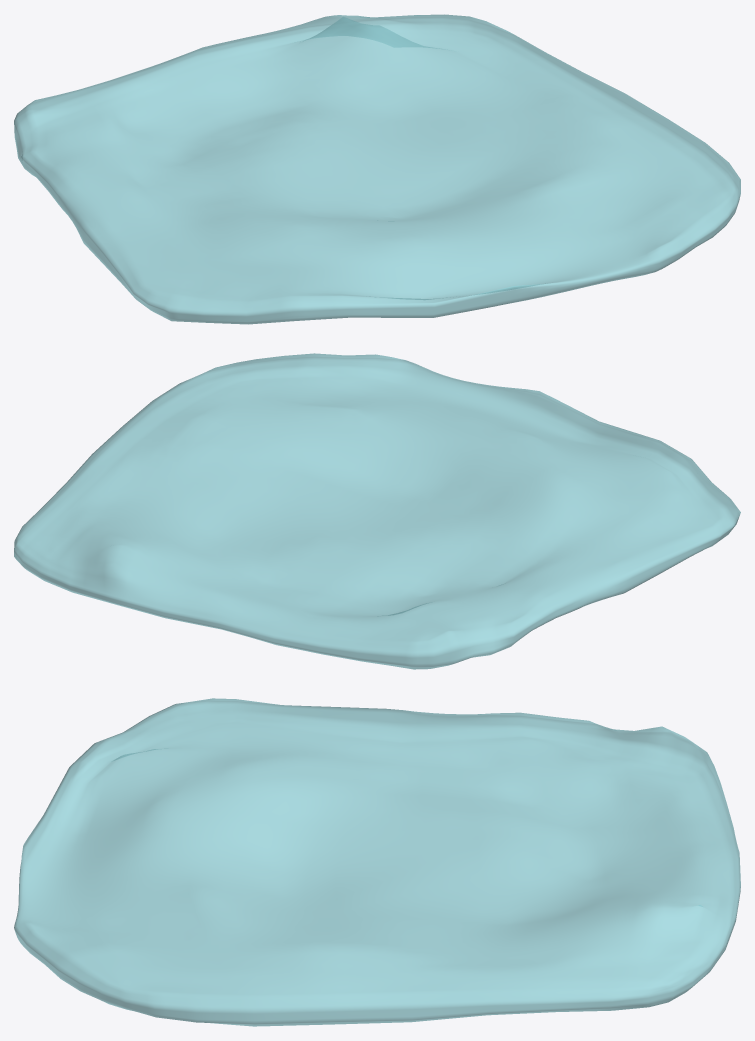
Rendered from lava4.fbx.
3 renders of one model, top to bottom at view 1: azimuth 30°, elevation 25°; view 2: azimuth 150°, elevation 25°; view 3: azimuth 270°, elevation 25°, orthographic. The views are drawn at different scales.
Visible parts, largest first — view 1: lava4; view 2: lava4; view 3: lava4.
Boxes of the visible parts, x1=… form: lava4: x1=14, y1=14, x2=740, y2=324; lava4: x1=14, y1=353, x2=740, y2=669; lava4: x1=14, y1=698, x2=740, y2=1026.
Bounding box in the file's own units: 4168 × 397 × 4095.
